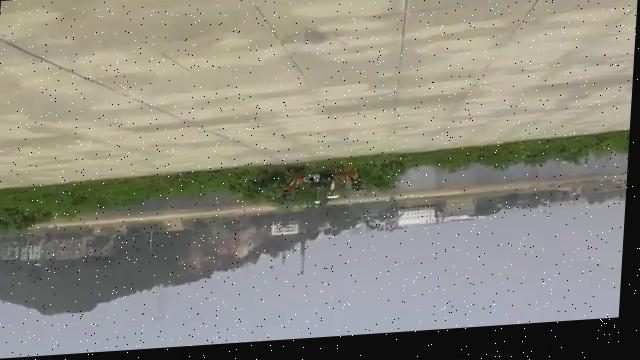drone: (282, 173, 367, 212)
